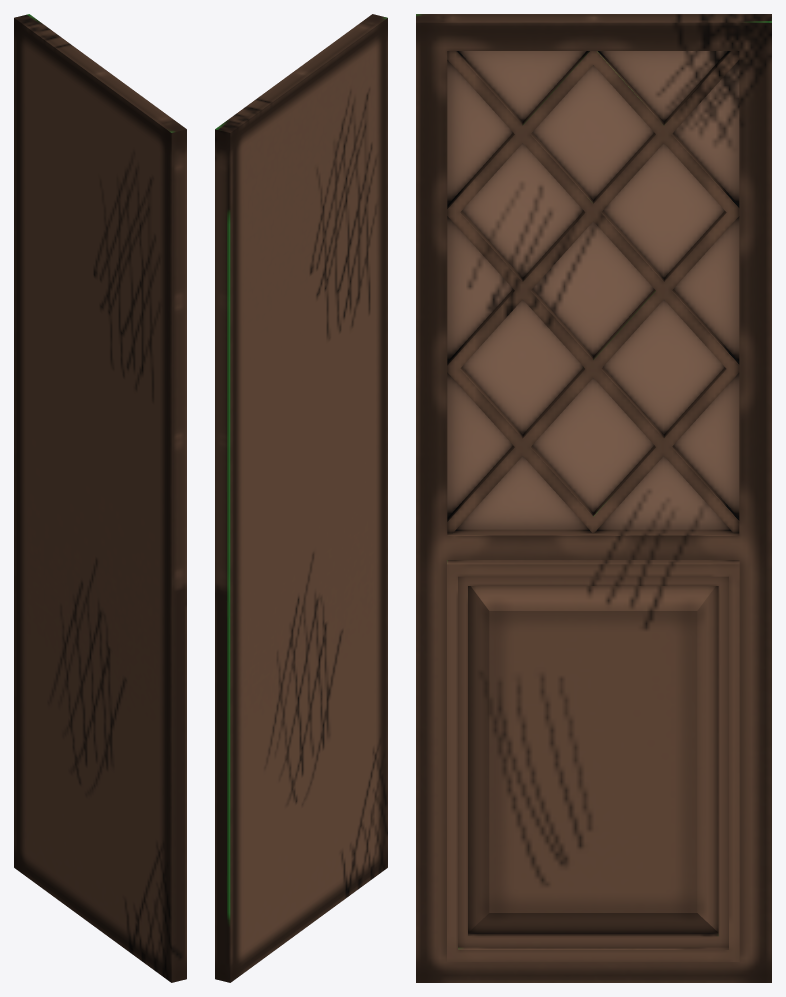
The model's file is Door_01.fbx.
3 renders of one model, left to right at view 1: azimuth 30°, elevation 25°; view 2: azimuth 150°, elevation 25°; view 3: azimuth 270°, elevation 25°, orthographic. The views are drawn at different scales.
Parts seen in each view (by area): view 1: Door_01; view 2: Door_01; view 3: Door_01.
Boxes of the visible parts, x1=… form: Door_01: x1=14, y1=14, x2=186, y2=982; Door_01: x1=215, y1=14, x2=387, y2=982; Door_01: x1=416, y1=14, x2=771, y2=982.
Size of the model in its own units: 5.37 by 184 by 61.74.
